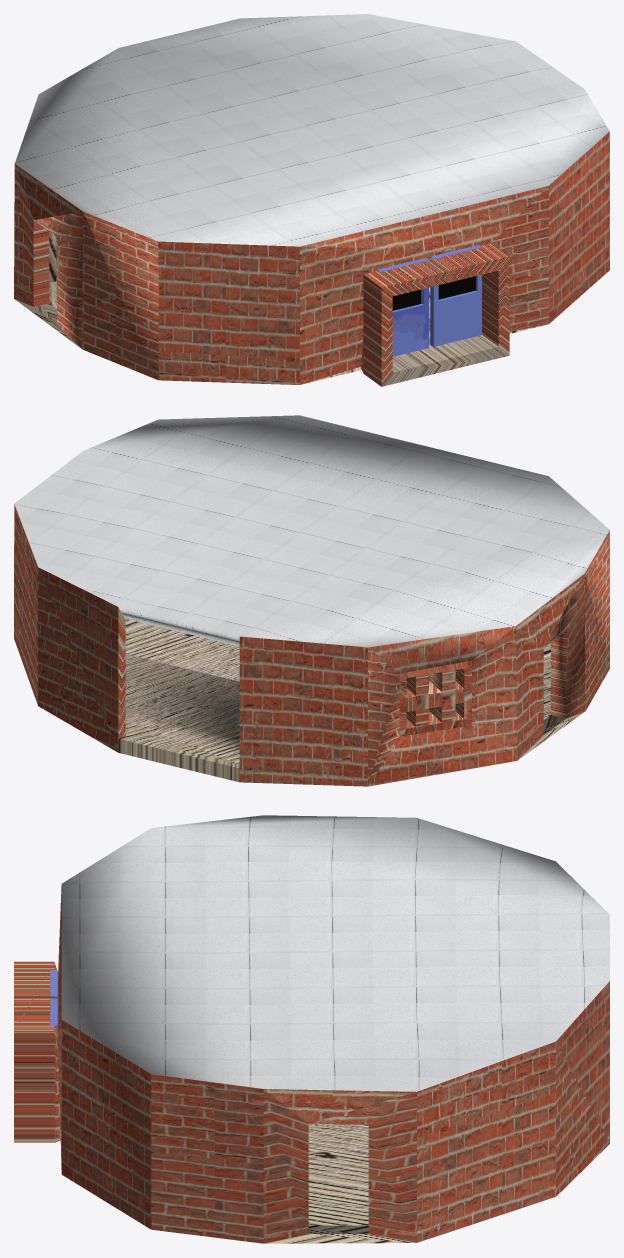
The model's file is atrium.glb.
3 views of the same model, one above another, from view 1: azimuth 30°, elevation 25°; view 2: azimuth 150°, elevation 25°; view 3: azimuth 270°, elevation 25° (orthographic). The views are drawn at different scales.
Visible parts, largest first — view 1: Cube.004, Cube.008; view 2: Cube.004; view 3: Cube.004.
Boxes of the visible parts, <box> form: Cube.004: <box>14,14,609,386</box>; Cube.008: <box>377,245,481,356</box>; Cube.004: <box>14,415,609,786</box>; Cube.004: <box>14,815,609,1243</box>.
Bounding box in the file's own units: 18.43 × 5.04 × 16.68.
4 materials, 4 textured.
